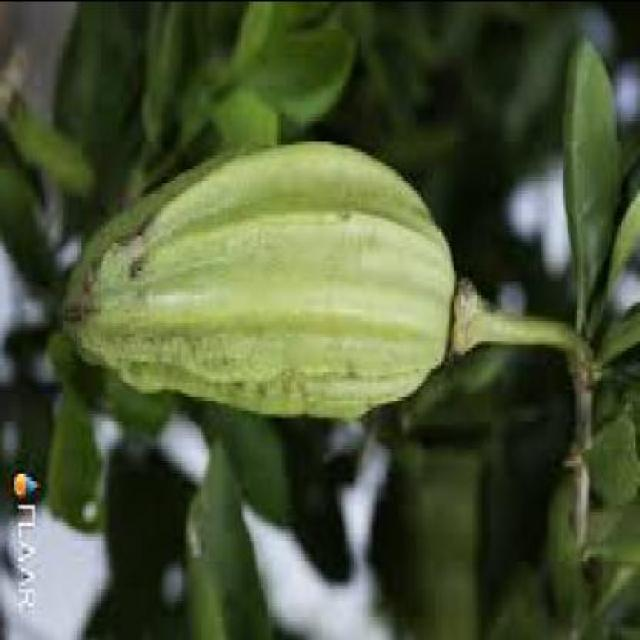BIODEGRADABLE: (60, 142, 458, 425), (63, 5, 360, 212), (564, 38, 623, 326), (186, 457, 269, 640)
